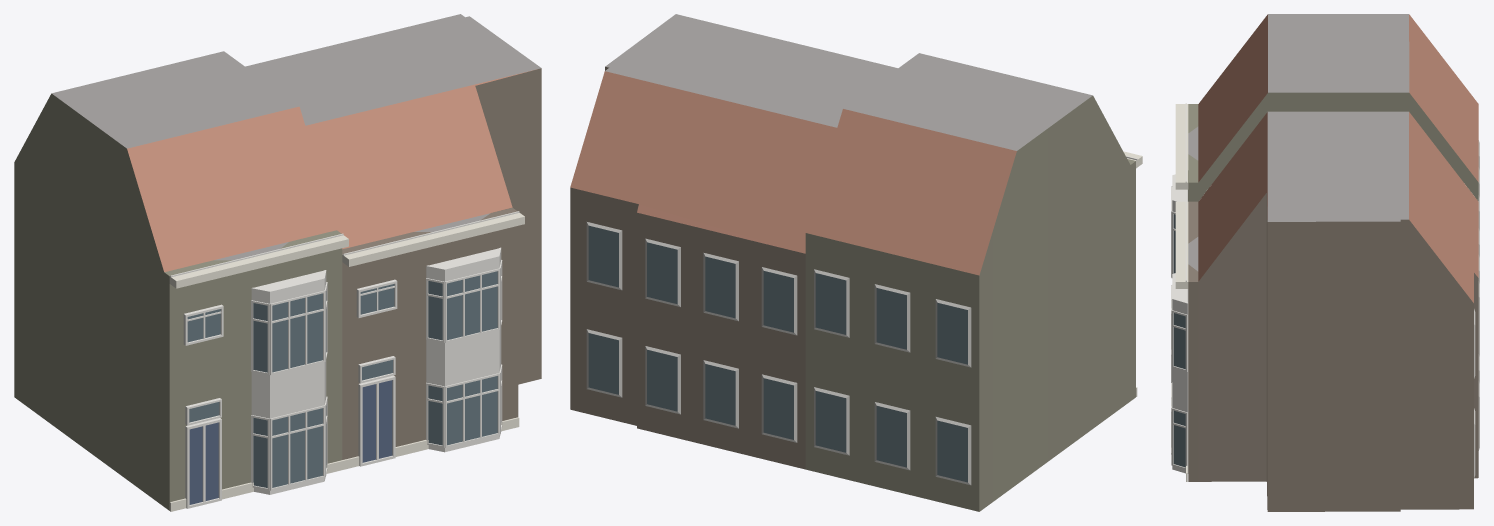
File: chunk-face-kraaipan-41-45-r1.glb
The picture shows the model from 3 angles, left to right: view 1: azimuth 30°, elevation 25°; view 2: azimuth 150°, elevation 25°; view 3: azimuth 270°, elevation 25°; orthographic projection. The views are drawn at different scales.
Parts seen in each view (by area): view 1: face-kraaipan-41-45-r1; view 2: face-kraaipan-41-45-r1; view 3: face-kraaipan-41-45-r1.
Boxes of the visible parts, x1=… form: face-kraaipan-41-45-r1: x1=14, y1=14, x2=541, y2=511; face-kraaipan-41-45-r1: x1=570, y1=14, x2=1142, y2=511; face-kraaipan-41-45-r1: x1=1171, y1=14, x2=1479, y2=511.
Size of the model in its own units: 14.4 by 11 by 9.95.
